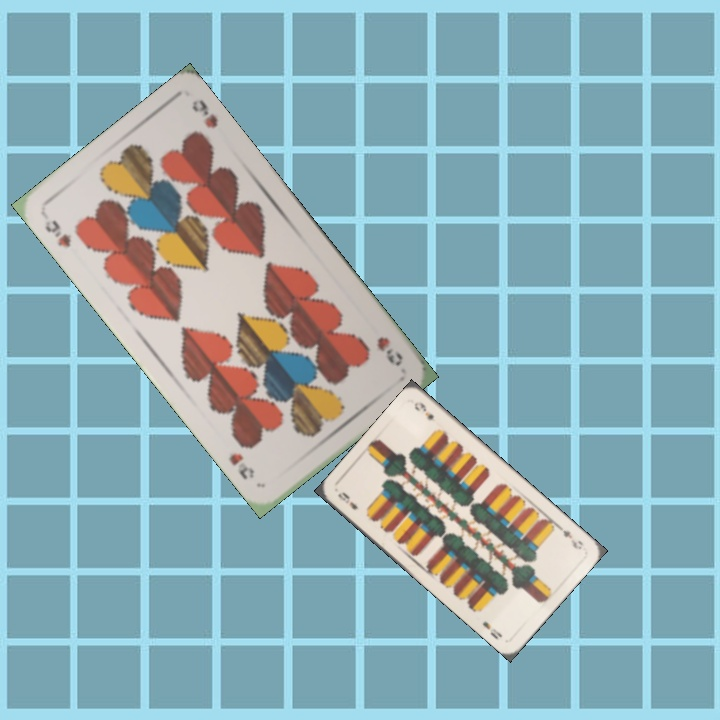E9: (553, 521, 586, 552), (334, 488, 360, 513)
H9: (372, 332, 406, 369), (40, 215, 74, 250)
